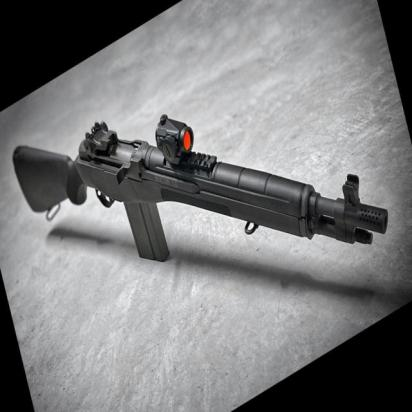Gun: (13, 112, 389, 268)
